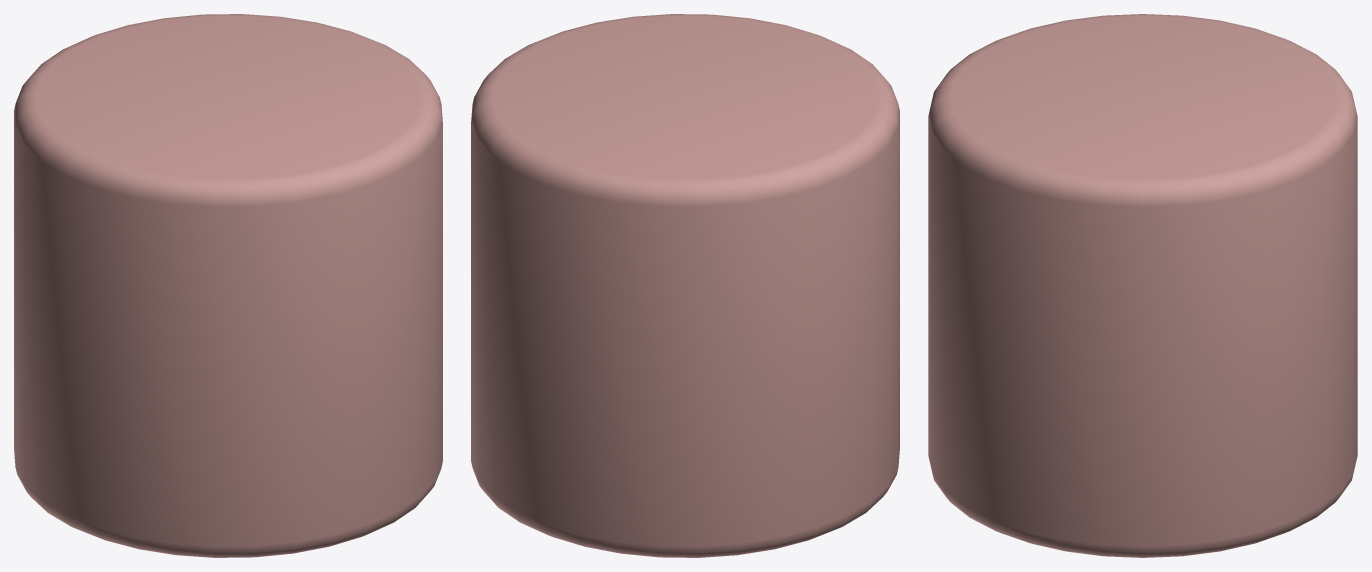
File: outerfrosting_6.glb
3 views of the same model, side by side, from view 1: azimuth 30°, elevation 25°; view 2: azimuth 150°, elevation 25°; view 3: azimuth 270°, elevation 25° (orthographic).
Parts seen in each view (by area): view 1: 6_OuterFrosting; view 2: 6_OuterFrosting; view 3: 6_OuterFrosting.
Part boxes in pixels (bbox=[...]): 6_OuterFrosting: bbox=[14, 14, 442, 557]; 6_OuterFrosting: bbox=[471, 14, 899, 557]; 6_OuterFrosting: bbox=[928, 14, 1357, 557].
Size of the model in its own units: 0.155 by 0.15 by 0.155.
